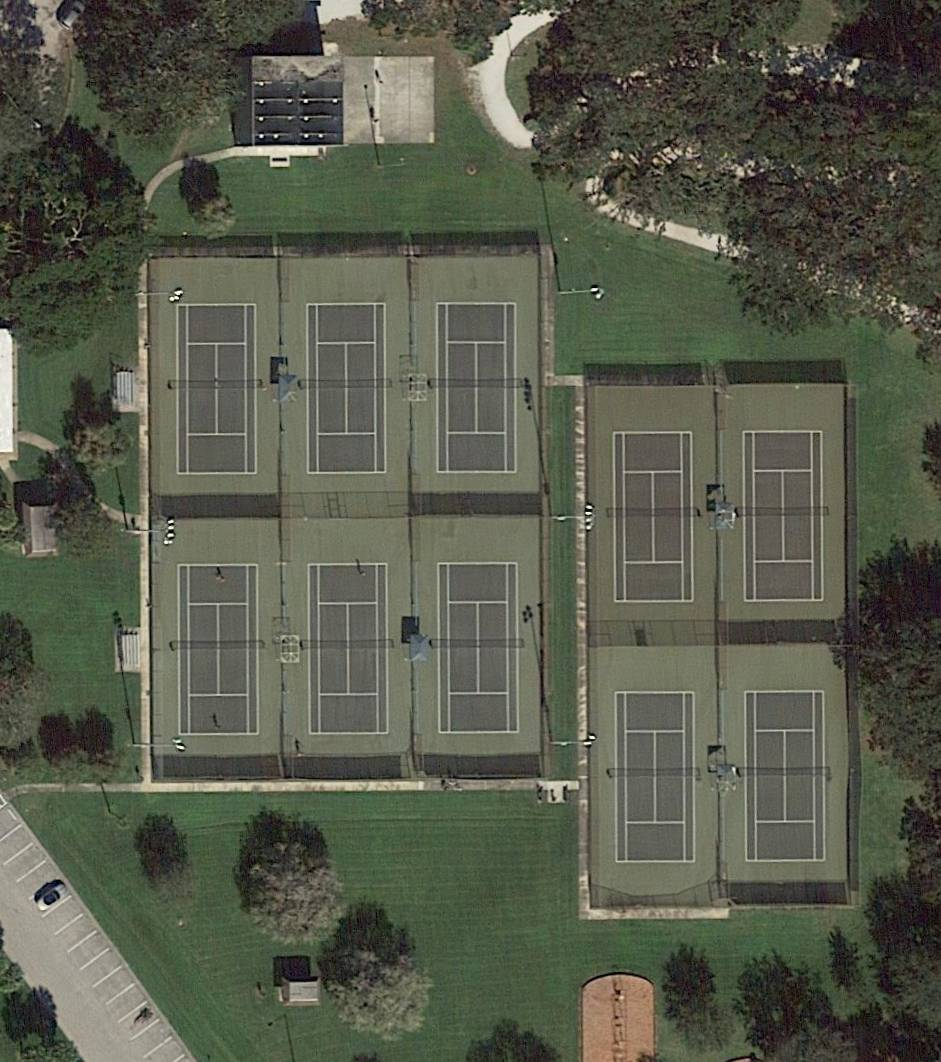small vehicle: (29, 879, 73, 919)
tennis court: (307, 562, 389, 736), (436, 563, 519, 733), (613, 431, 695, 603), (175, 304, 257, 476), (743, 431, 825, 602), (177, 565, 259, 735), (436, 303, 518, 473), (745, 691, 826, 862), (615, 692, 695, 863), (307, 304, 386, 475)
